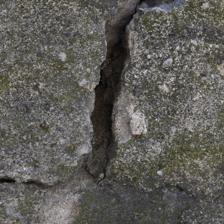Crack: (0, 31, 86, 117), (53, 0, 85, 148)
